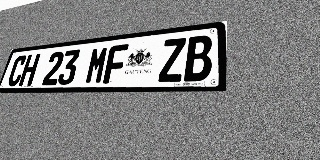2: (42, 51, 65, 85)
3: (57, 49, 81, 85)
B: (184, 35, 213, 81)
C: (6, 55, 28, 86)
F: (103, 44, 129, 84)
H: (18, 54, 41, 86)
M: (84, 46, 110, 84)
Z: (158, 37, 186, 82)
